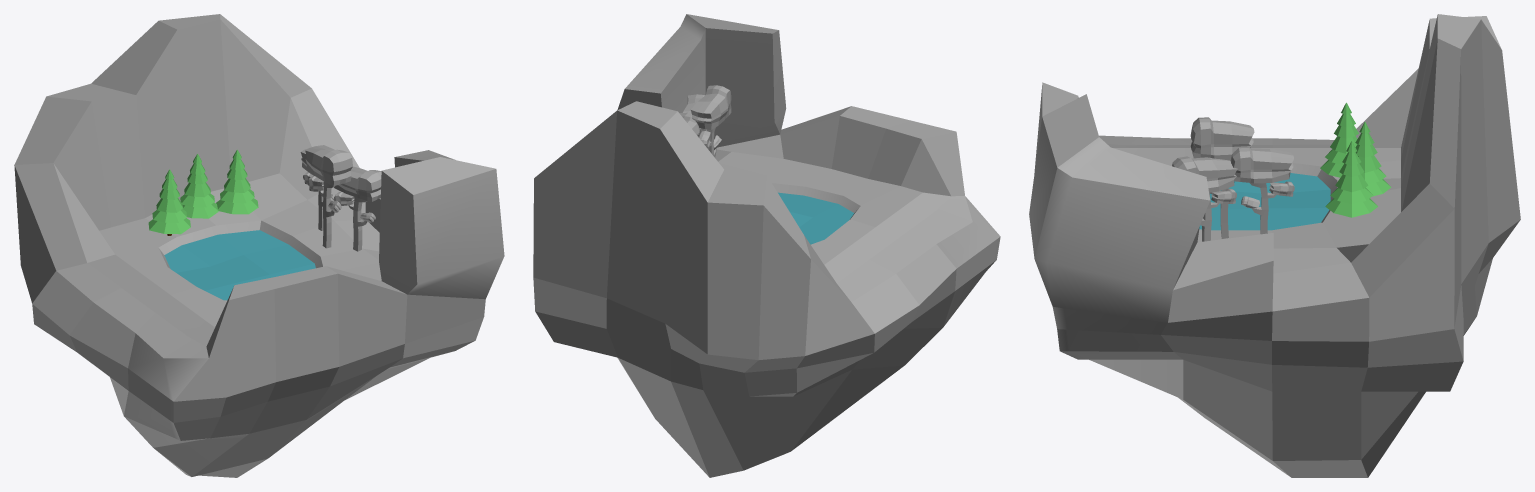
The model's file is Floating_Island3_UNWRAPPED.fbx.
The picture shows the model from 3 angles, left to right: view 1: azimuth 30°, elevation 25°; view 2: azimuth 150°, elevation 25°; view 3: azimuth 270°, elevation 25°; orthographic projection. The views are drawn at different scales.
Parts seen in each view (by area): view 1: Island3, Tree_island3_2, Tree_island3, Pinetree1, Pinetree3, Pinetree2; view 2: Island3, Tree_island3_2; view 3: Island3, Tree_Island3_3, Tree_island3_2, Tree_island3, Pinetree3, Pinetree1, Pinetree2.
Part boxes in pixels (<box>): Island3: <box>14,14,504,477</box>; Tree_island3_2: <box>305,145,352,248</box>; Tree_island3: <box>334,166,381,251</box>; Pinetree1: <box>148,169,190,235</box>; Pinetree3: <box>216,149,258,214</box>; Pinetree2: <box>180,154,218,218</box>; Island3: <box>533,14,1000,477</box>; Tree_island3_2: <box>691,85,731,157</box>; Island3: <box>1029,14,1520,477</box>; Tree_Island3_3: <box>1230,147,1294,234</box>; Tree_island3_2: <box>1190,117,1254,238</box>; Tree_island3: <box>1172,156,1237,241</box>; Pinetree3: <box>1325,141,1377,217</box>; Pinetree1: <box>1320,102,1358,177</box>; Pinetree2: <box>1355,122,1391,196</box>.
Bounding box in the file's own units: 3340 × 3527 × 3375.
